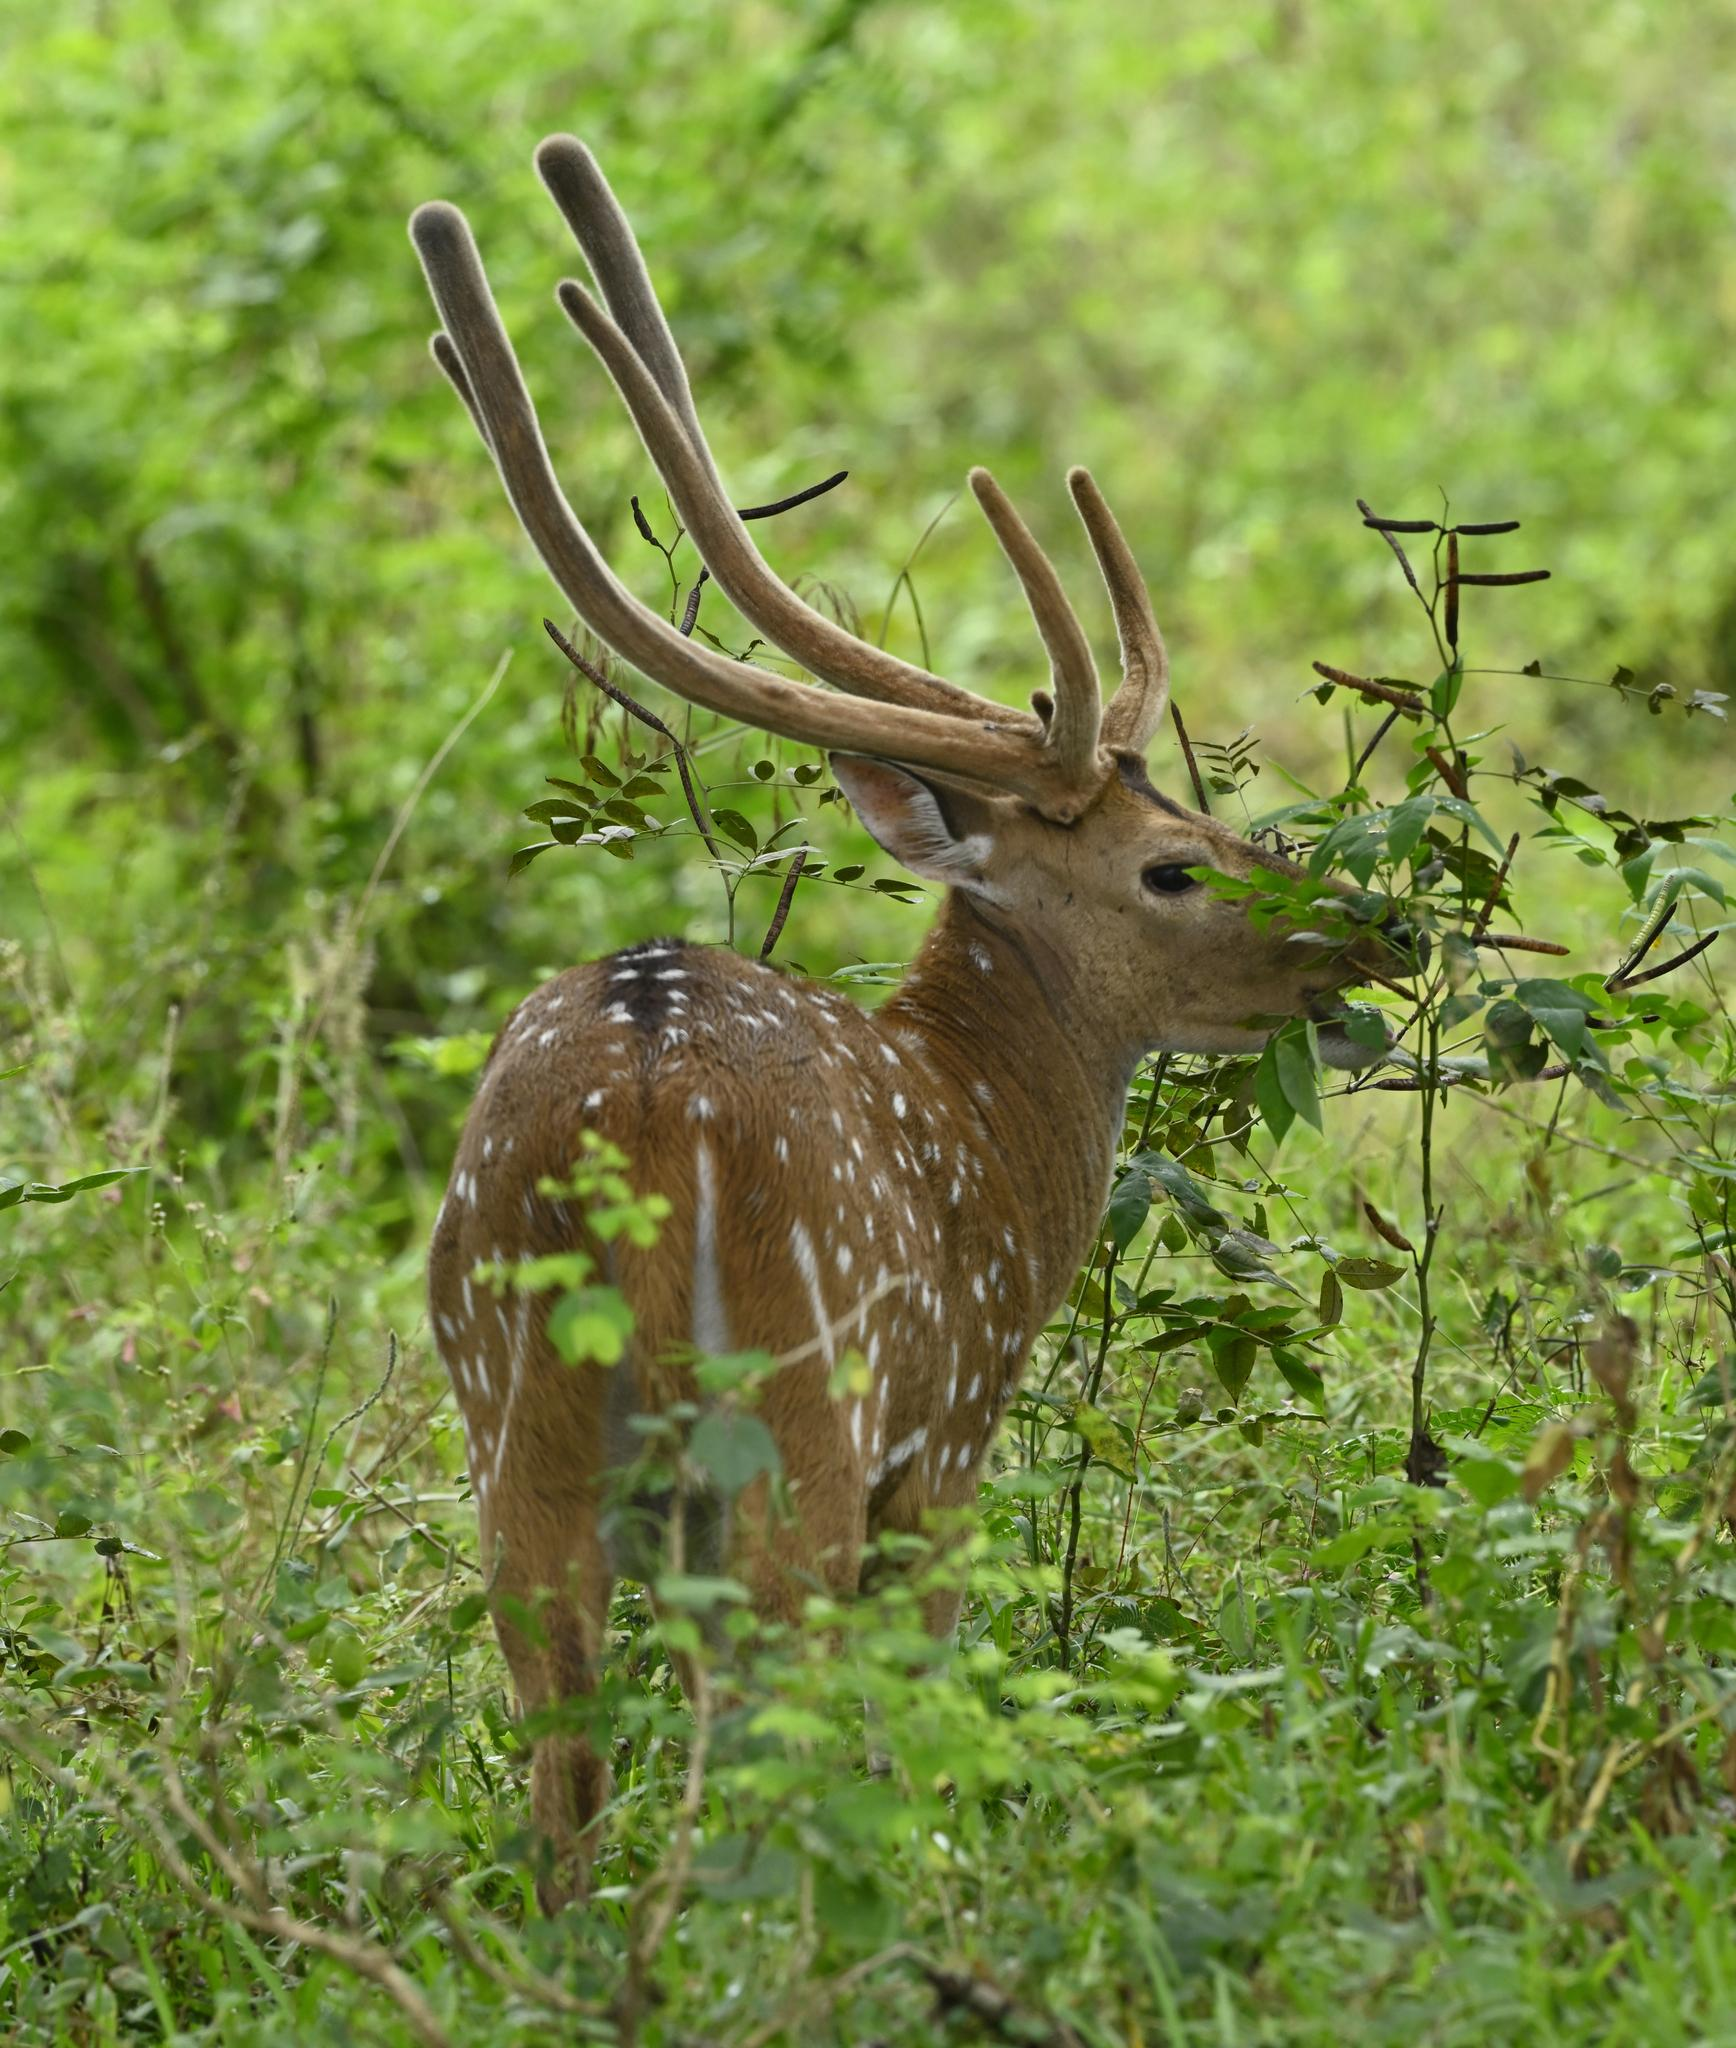Deer: (412, 134, 1412, 1712)
